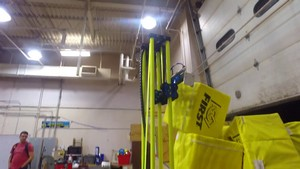cube: (170, 82, 230, 140)
